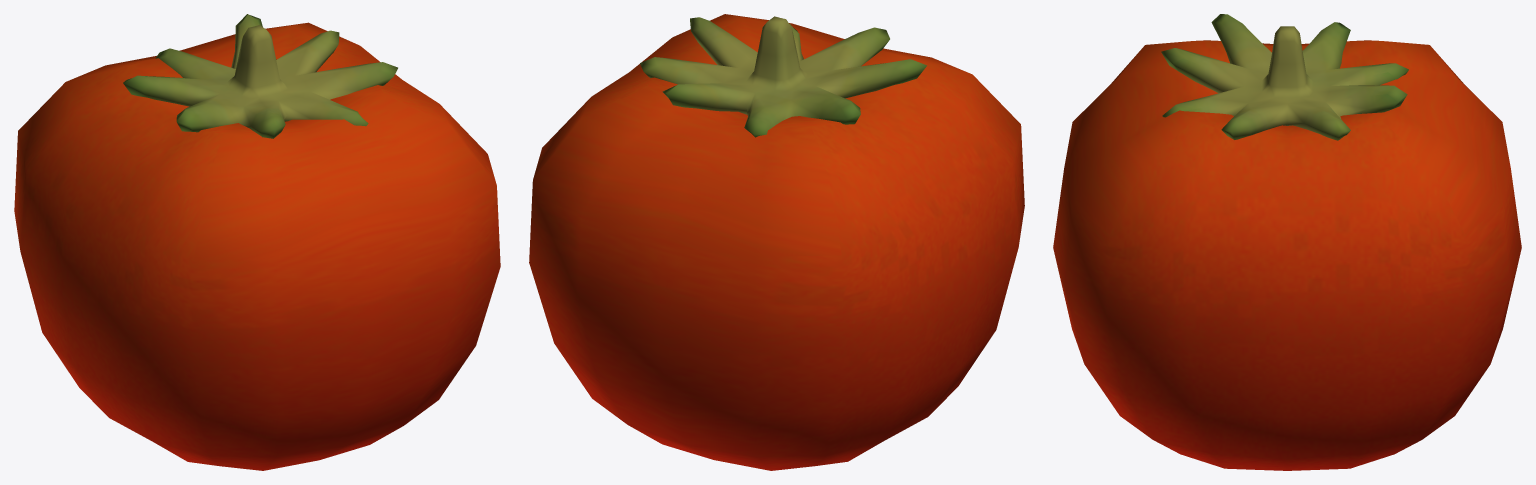
File: Tomato.fbx
3 views of the same model, side by side, from view 1: azimuth 30°, elevation 25°; view 2: azimuth 150°, elevation 25°; view 3: azimuth 270°, elevation 25° (orthographic).
Visible parts, largest first — view 1: Apple (4); view 2: Apple (4); view 3: Apple (4).
Boxes of the visible parts, x1,y1,x2,y2 form: Apple (4): (14, 14, 500, 470); Apple (4): (529, 14, 1024, 470); Apple (4): (1053, 14, 1521, 470).
Size of the model in its own units: 0.664 by 0.6429 by 0.6801.
